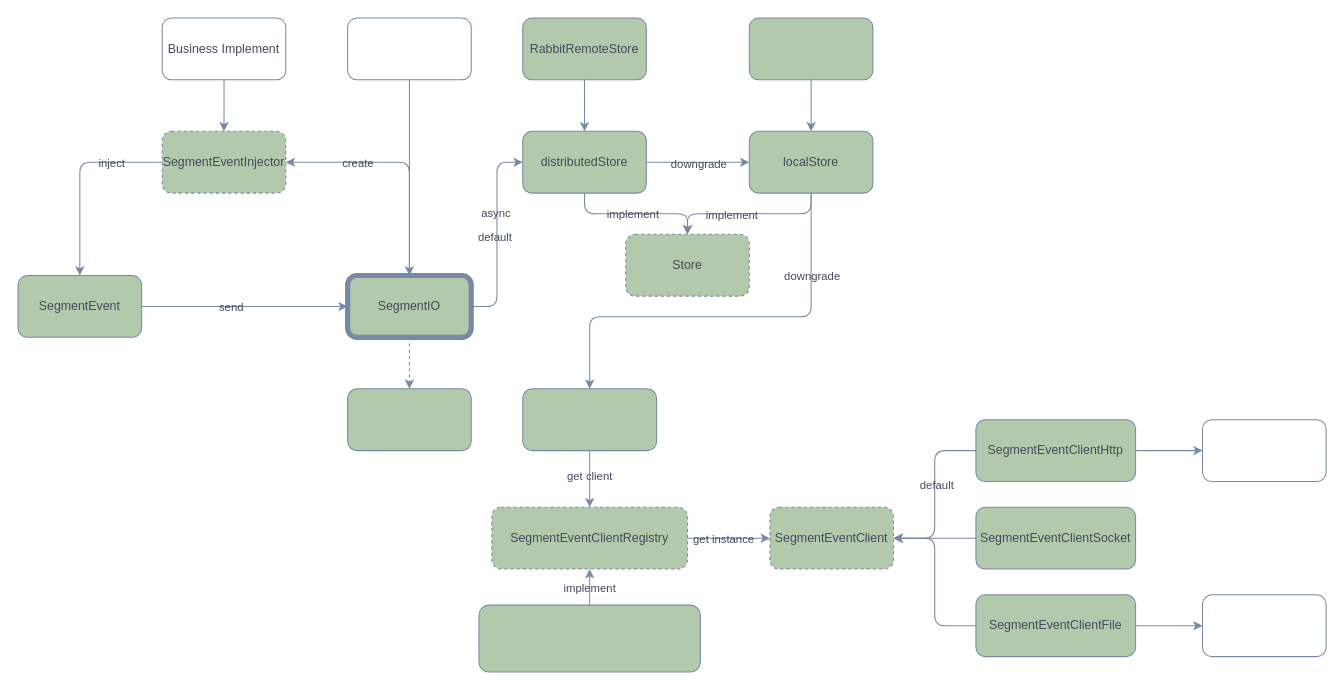
Some shapes in this 1344 by 690 pixel diagram are drawn without their labels. The shapes that lost their labels are listed below. From the top down, each one's centre as x and y in pixels, then its label:
the point at 409,48: Business start
the point at 810,48: ReactorLocalStore
the point at 409,419: Metrics
the point at 589,419: SegmentEventReporter
the point at 1263,450: api
the point at 589,638: SpringSegmentEventClientRegistry
the point at 1263,625: tmp/log
